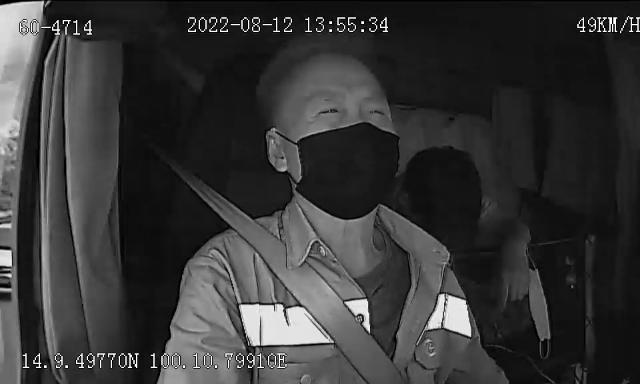SafeDriving: (309, 99, 346, 120), (360, 100, 394, 120)
Seatbelt: (170, 158, 408, 384)
